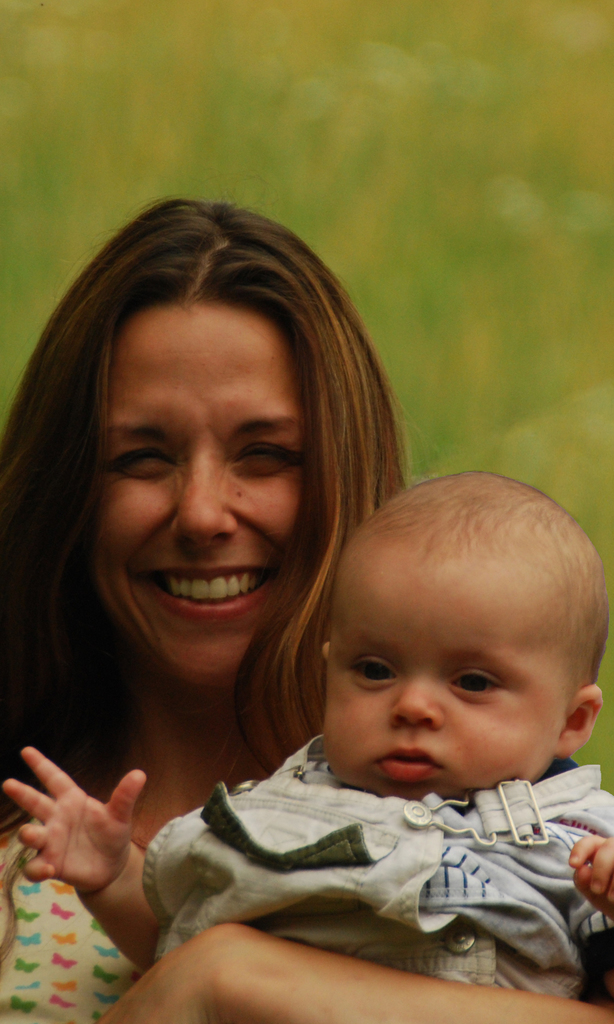Person: (0, 173, 614, 1024)
